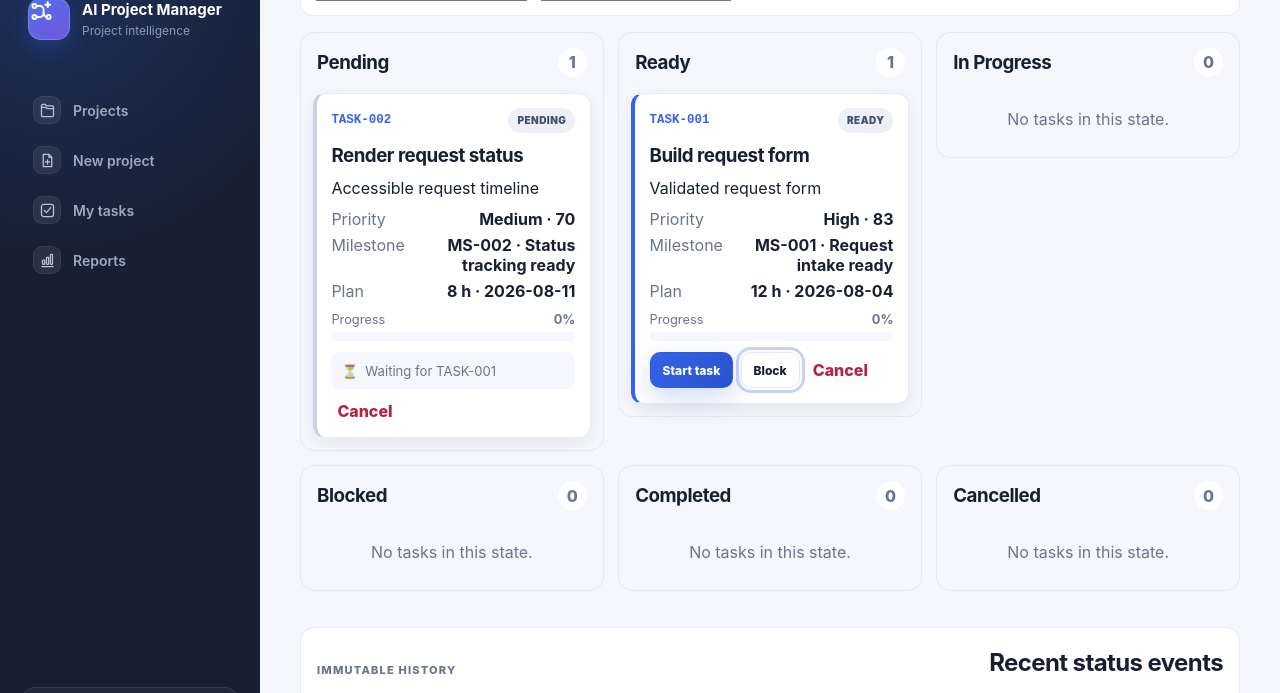
it: active execution experience › records a blocker by keyboard and visibly updates deterministic health
(page scrolled)
Check: the element "Build request form" is shown, box [631, 92, 909, 404]
Press Enter
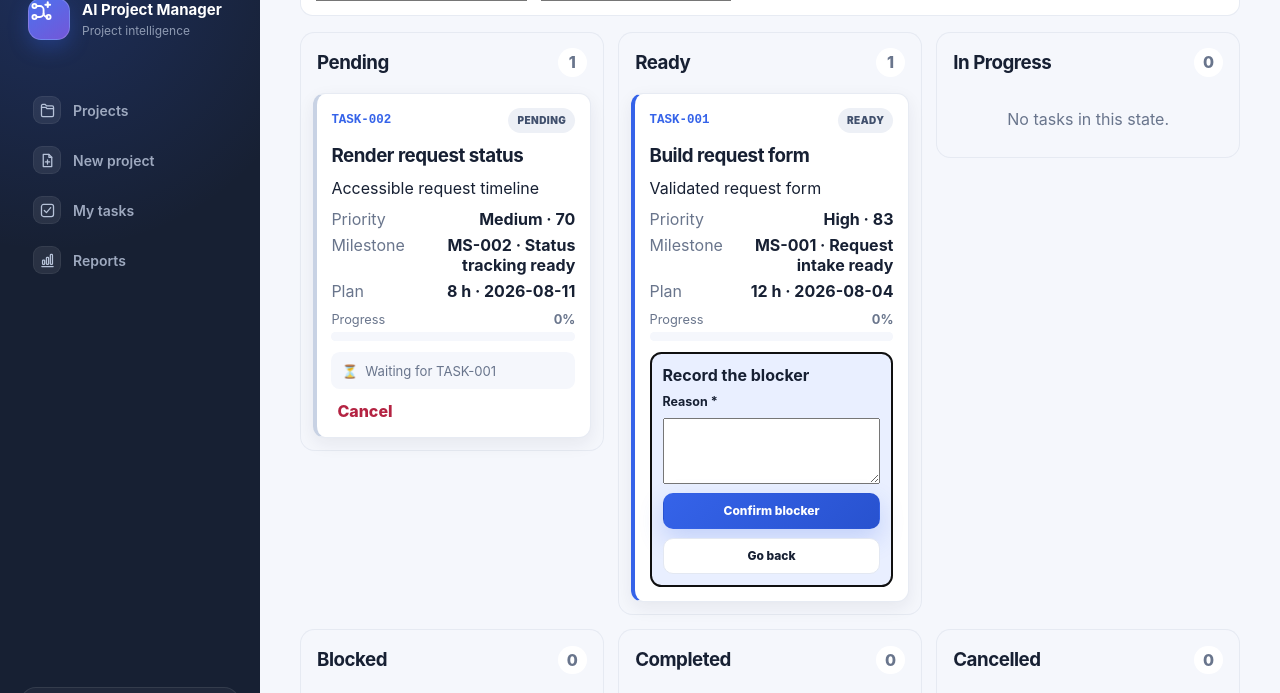
Type "Waiting for the approved service contract." into the text box labelled "Reason *" at (772, 451), box [662, 418, 880, 484]
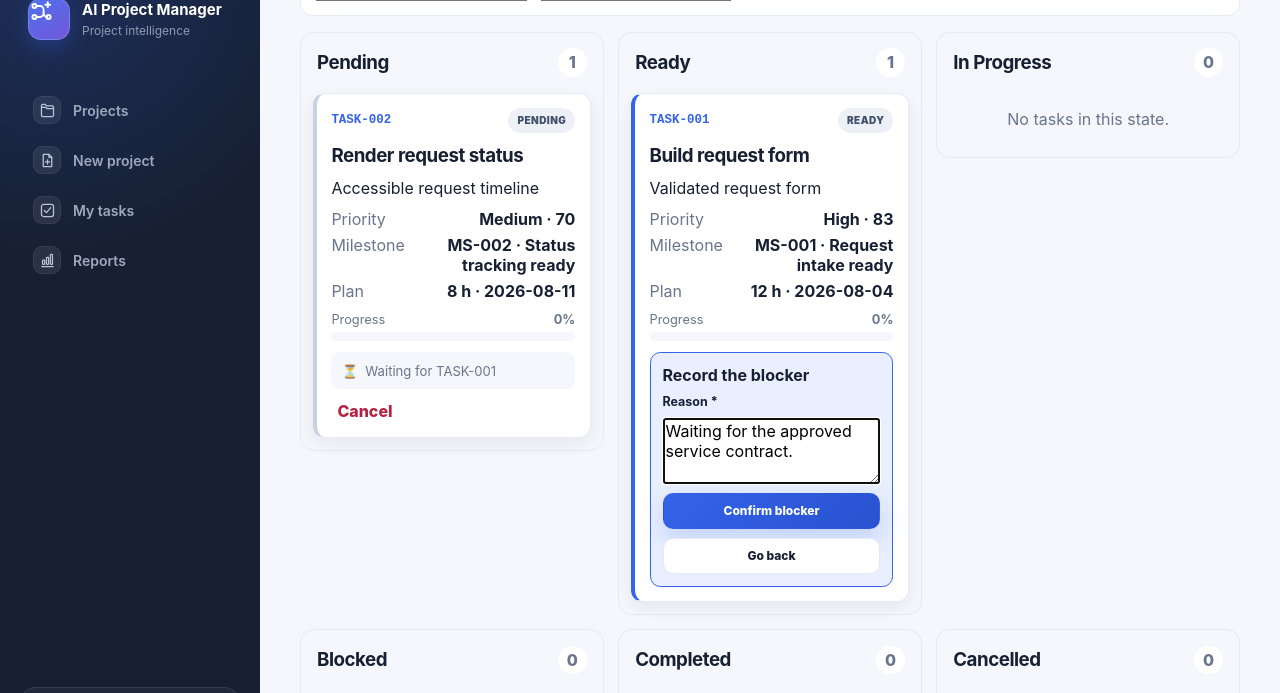
Click the button "Confirm blocker" at (772, 511), box [662, 493, 880, 529]
(page scrolled)
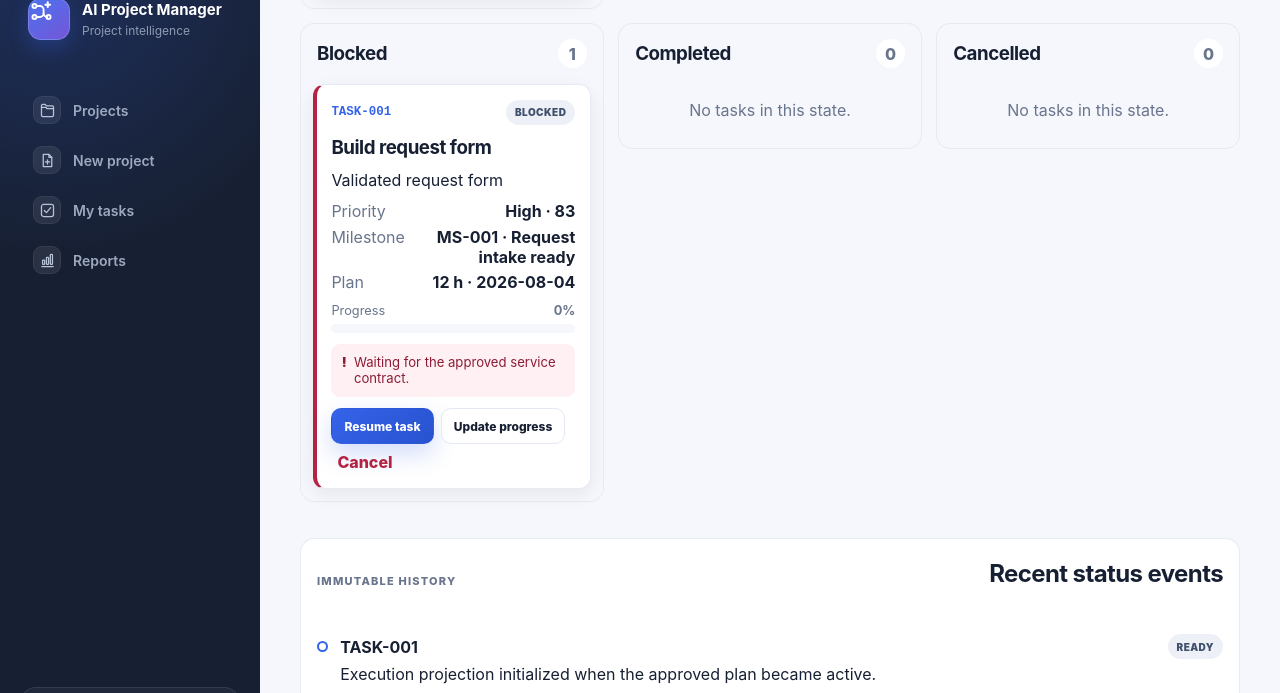
Check: the text "Waiting for the approved service contract." is shown, box [354, 354, 556, 386]
